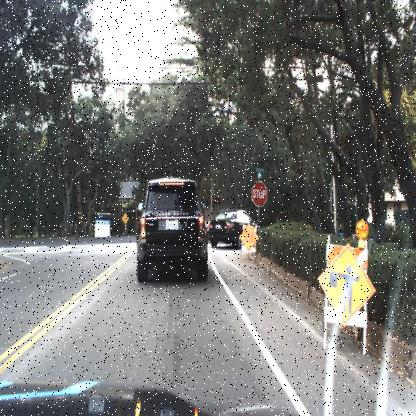car: (131, 170, 213, 286), (135, 176, 208, 285), (206, 205, 262, 251)
